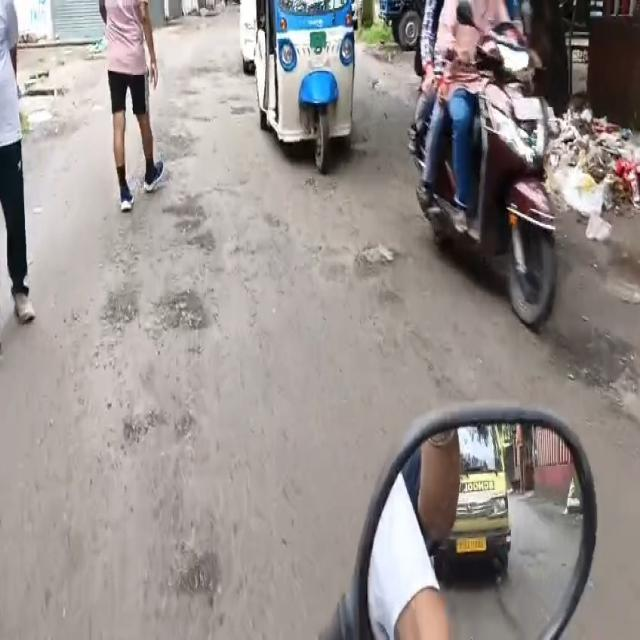road-pothole: (161, 192, 220, 255), (151, 288, 210, 329), (173, 548, 215, 593), (101, 277, 140, 324), (356, 244, 399, 274)
